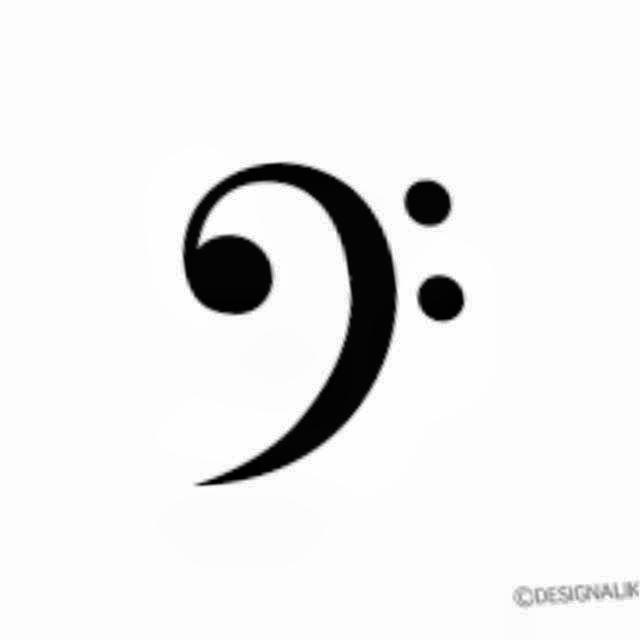Bass-clef: (157, 144, 479, 496)
